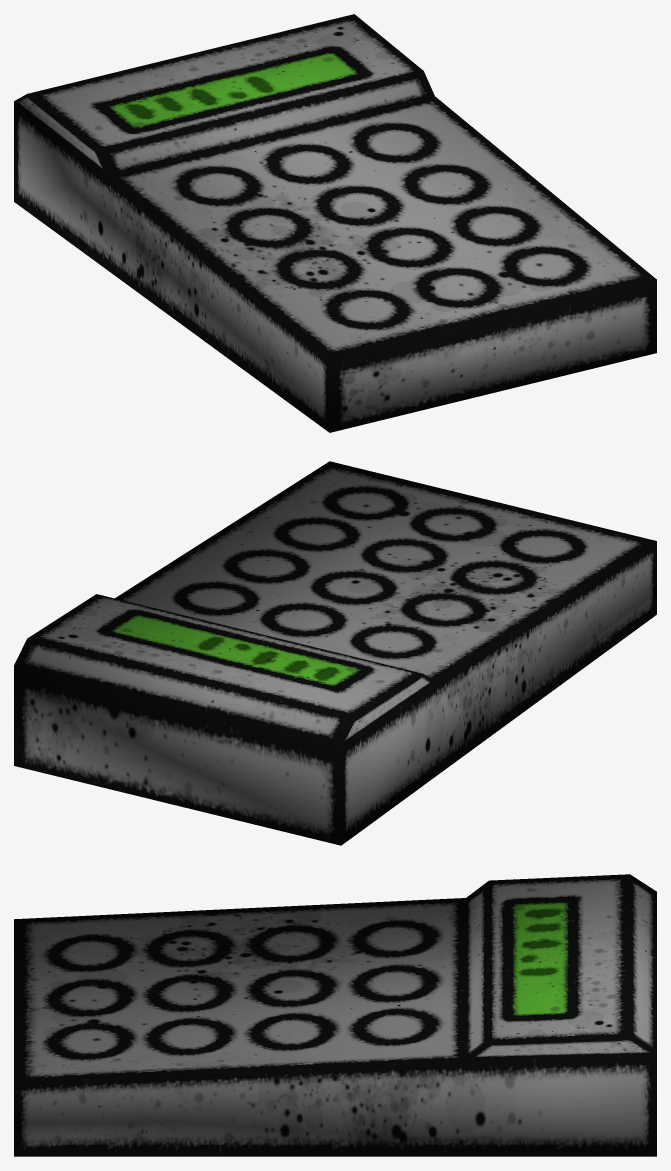
The model's file is calculator.obj.
3 renders of one model, top to bottom at view 1: azimuth 30°, elevation 25°; view 2: azimuth 150°, elevation 25°; view 3: azimuth 270°, elevation 25°, orthographic.
Visible parts, largest first — view 1: calculator; view 2: calculator; view 3: calculator.
Part boxes in pixels (x1,y1,x2,y2): calculator: (14, 14, 656, 432); calculator: (14, 461, 656, 845); calculator: (14, 874, 656, 1156).
Bounding box in the file's own units: 1.2 × 0.4111 × 2.
